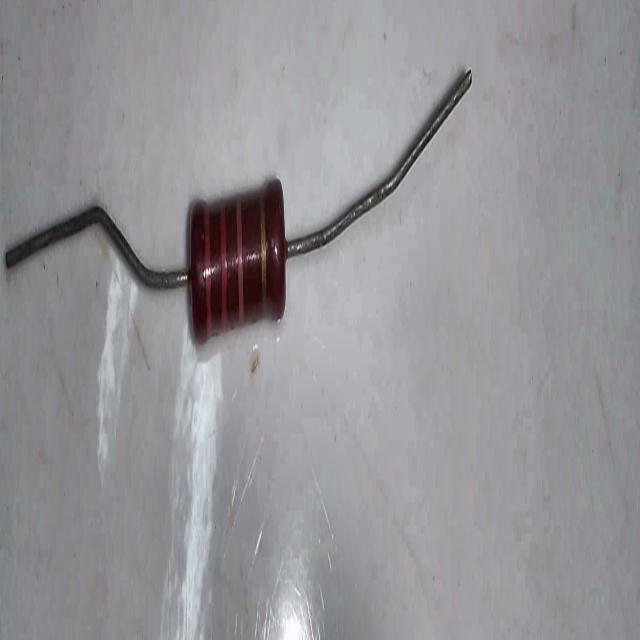Carbon Resistor: (2, 16, 488, 386)
